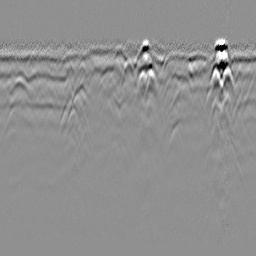cavity: (120, 56, 136, 86)
